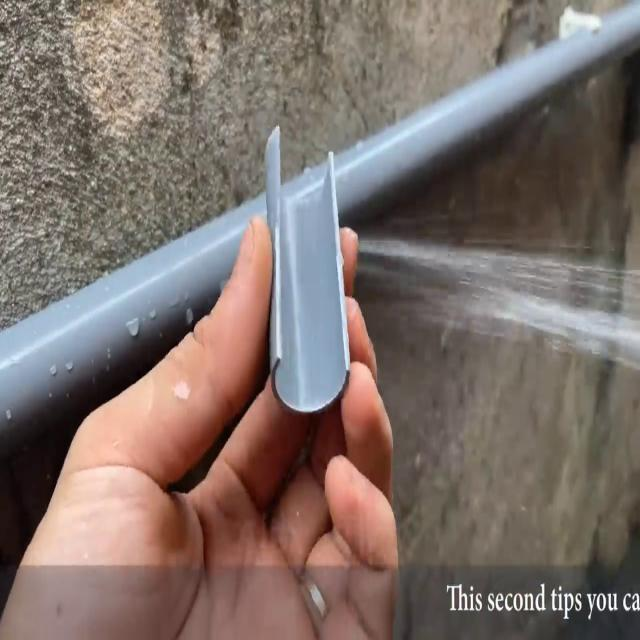leak: (357, 241, 640, 370)
